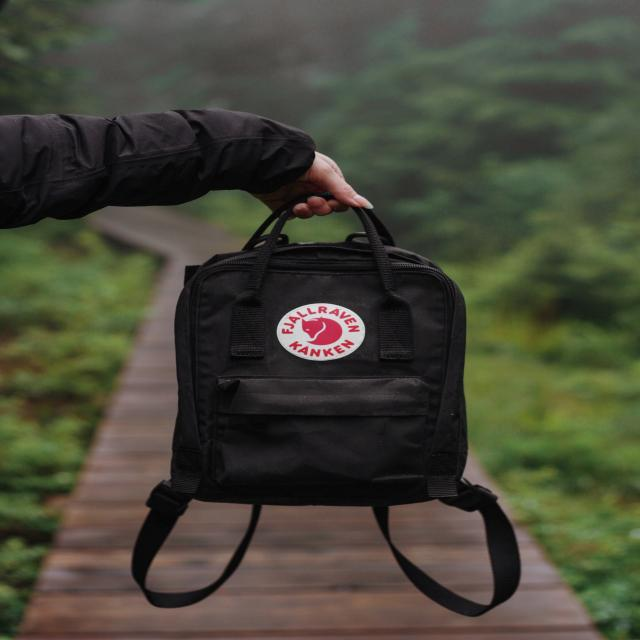backpack: (159, 197, 491, 516)
